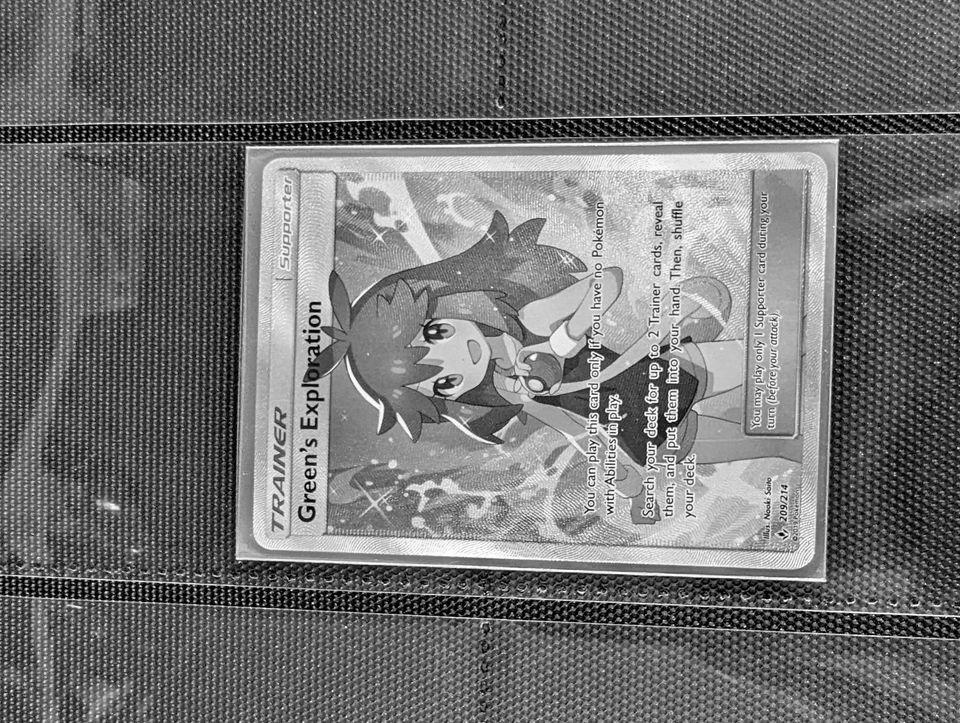card: (250, 149, 830, 573)
